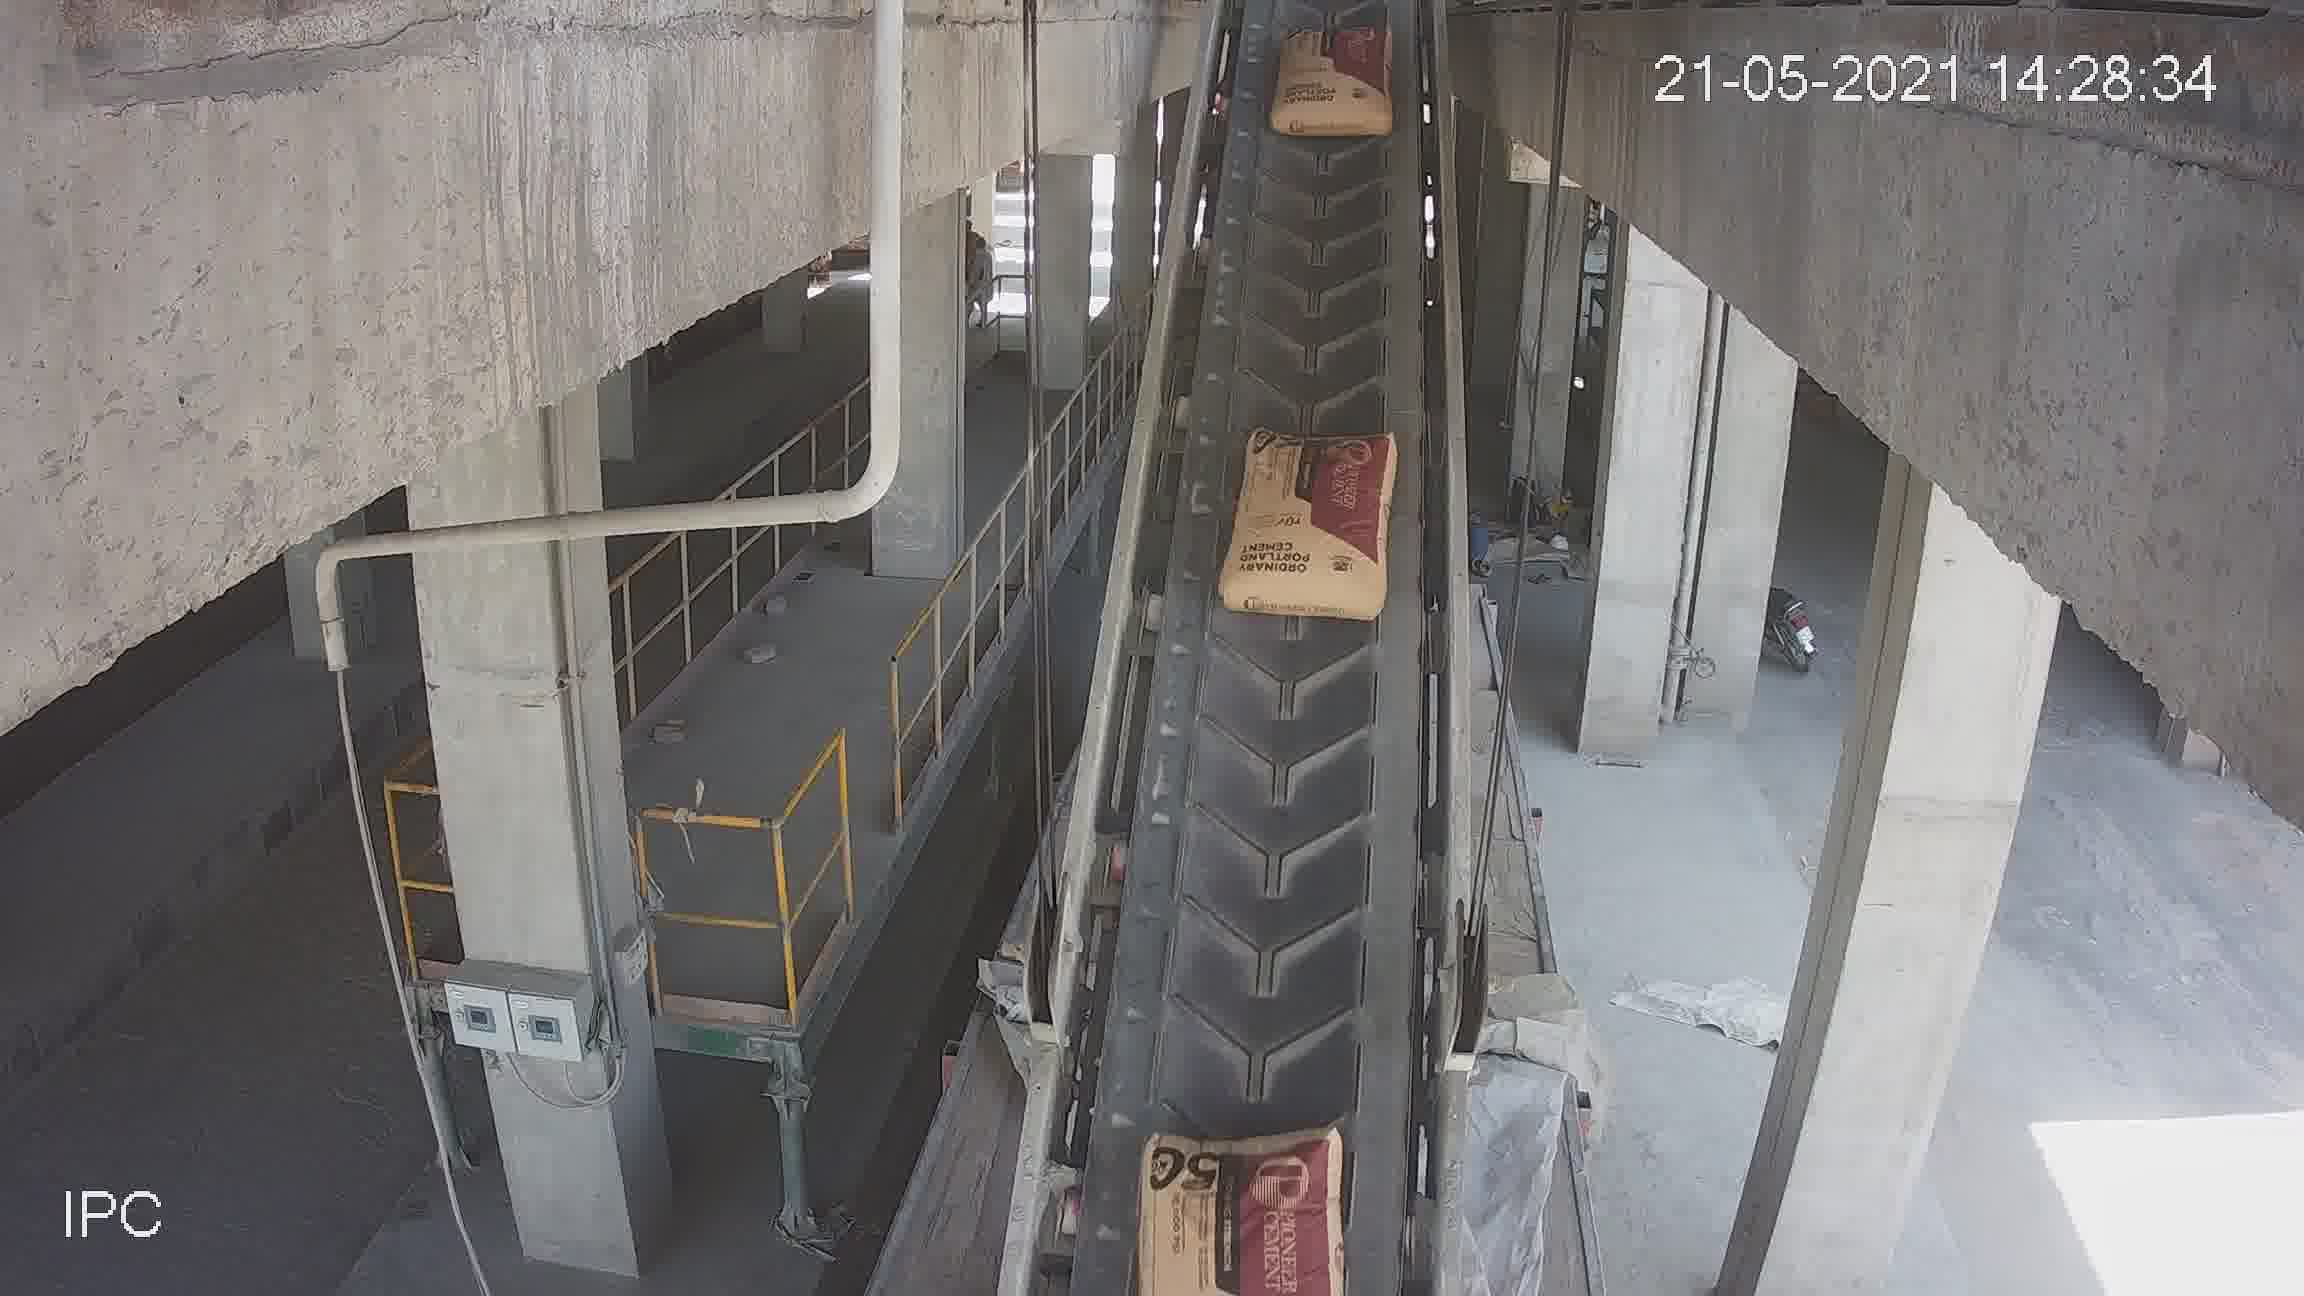bag: (1228, 435, 1386, 620), (1144, 1133, 1337, 1274), (1283, 28, 1393, 125)
belt: (1055, 28, 1478, 1255)
